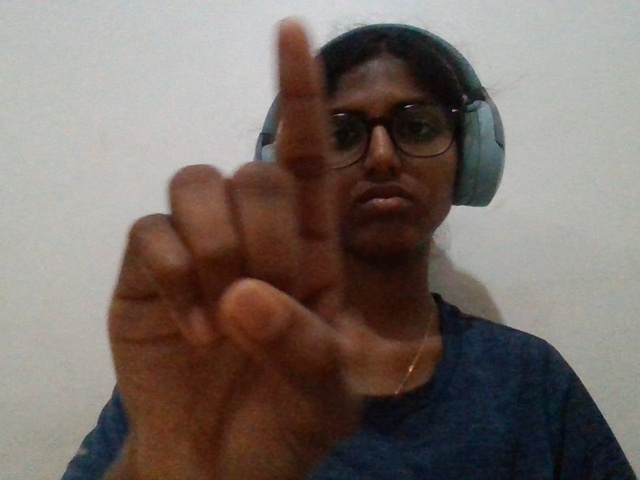D: (86, 8, 364, 480)
